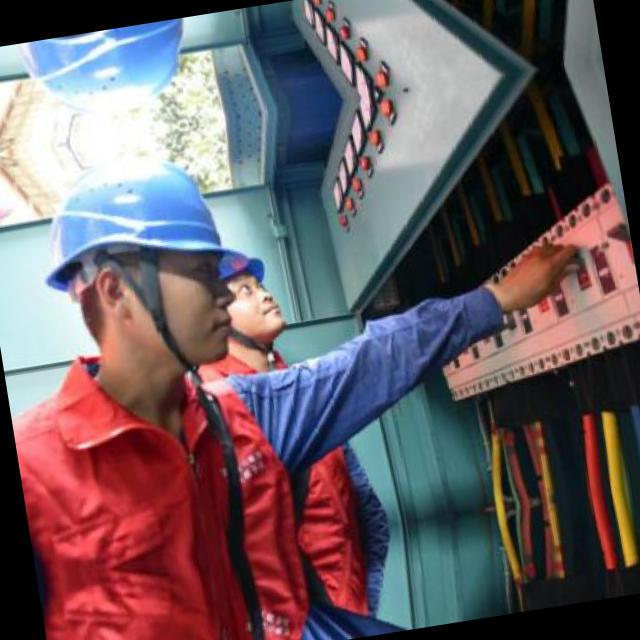helmet: (16, 126, 267, 402), (0, 13, 227, 144), (212, 235, 288, 348)
